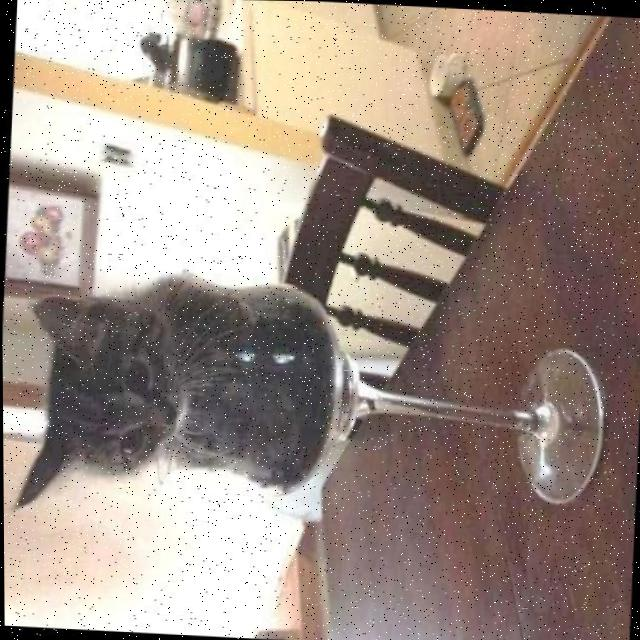Cats: (1, 252, 338, 536)
